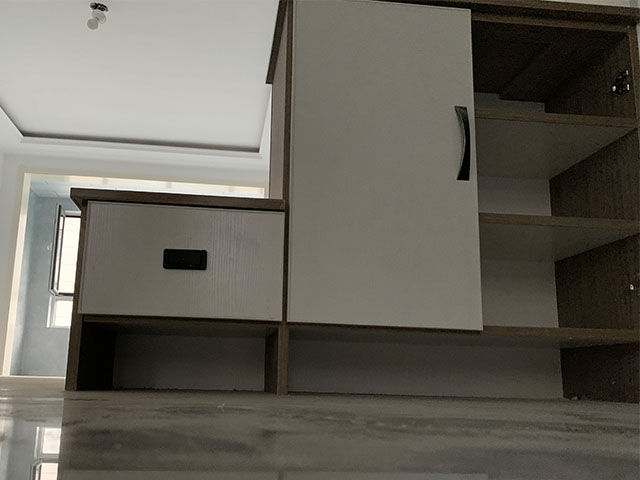cabinet: (64, 1, 640, 404)
